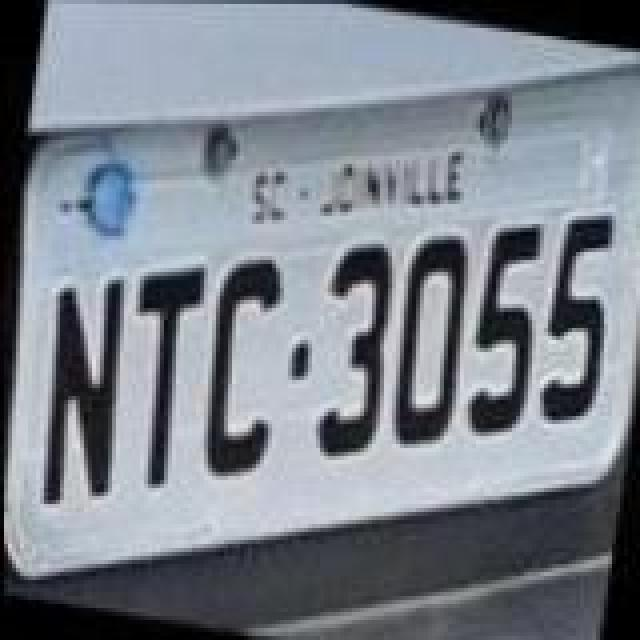3: (302, 234, 406, 466)
5: (456, 210, 556, 442), (530, 204, 626, 436)
C: (188, 250, 296, 486)
N: (20, 264, 140, 512)
O: (380, 226, 480, 454)
T: (112, 254, 212, 494)
